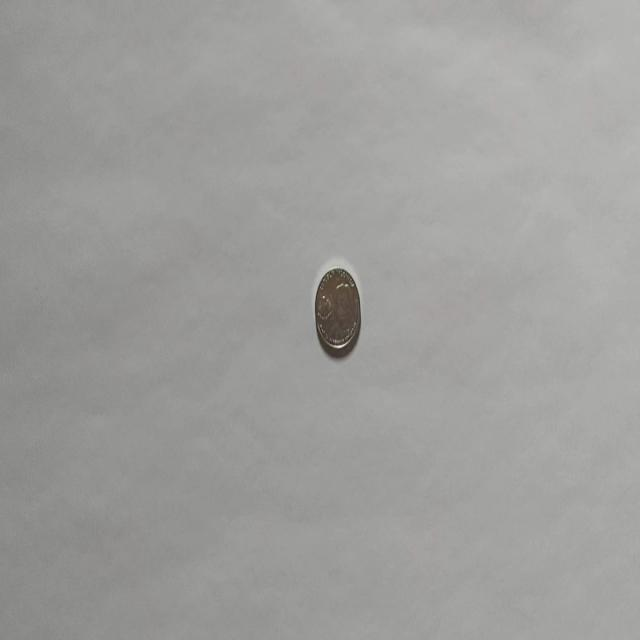seratus rupiah: (313, 265, 361, 353)
